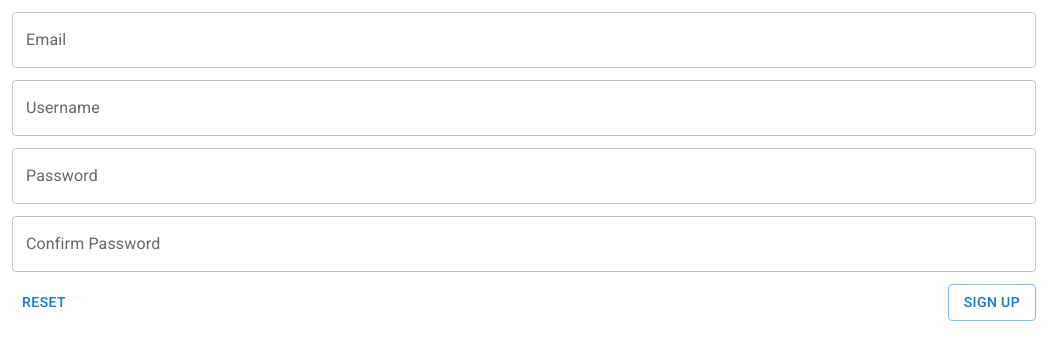
Scenario: Register Component Validations › displays error message when password is less than 8 characters
# Fill in a password less than 8 characters
Type "short" into the password field labelled "Password". click: coordinates (524, 176)
box: [12, 148, 1036, 204]
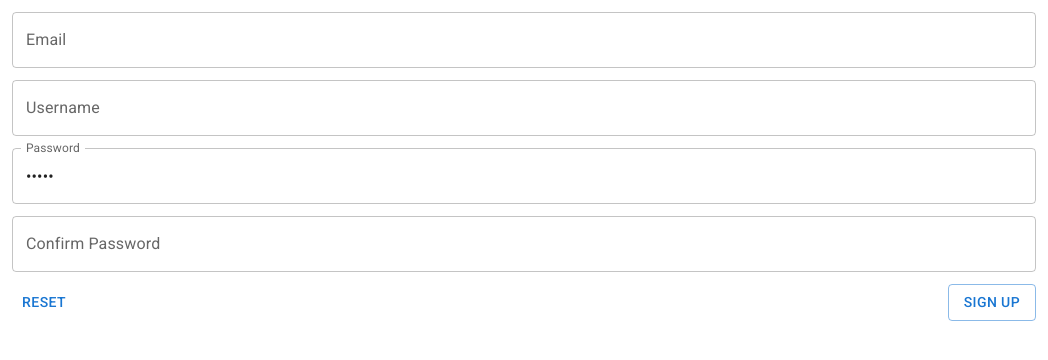
Leave the password field labelled "Password", box [12, 148, 1036, 204]
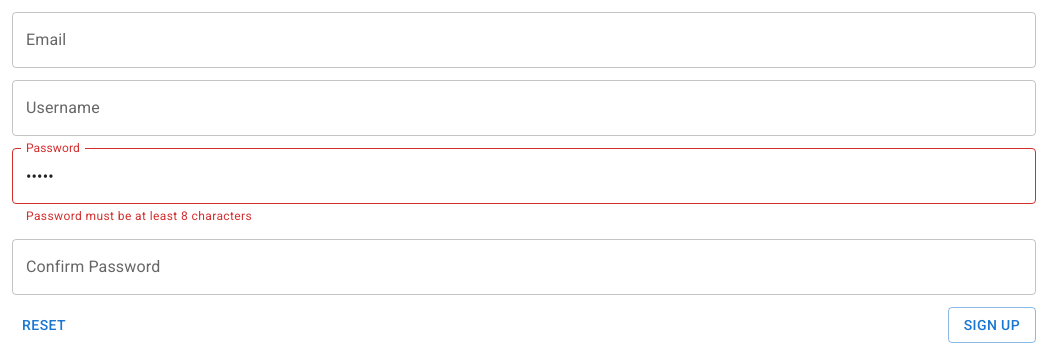
Result: the text "Password must be at least 8 characters" is shown at [26, 209, 252, 223]
